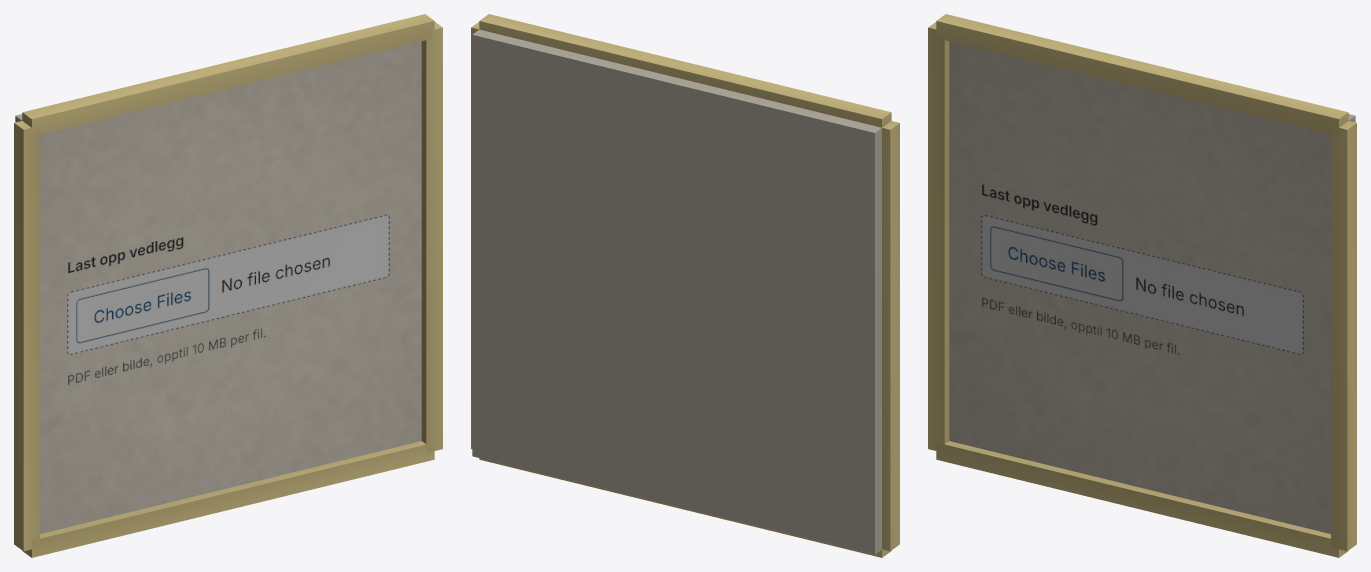
File: gallery_file_upload.glb
3 views of the same model, side by side, from view 1: azimuth 30°, elevation 25°; view 2: azimuth 150°, elevation 25°; view 3: azimuth 330°, elevation 25° (orthographic).
Visible parts, largest first — view 1: plate; view 2: plate; view 3: plate.
Boxes of the visible parts, bbox=[...] form: plate: bbox=[14, 14, 442, 557]; plate: bbox=[471, 14, 899, 557]; plate: bbox=[928, 14, 1356, 557].
Size of the model in its own units: 0.51 by 0.51 by 0.035.
2 materials, 1 textured.
